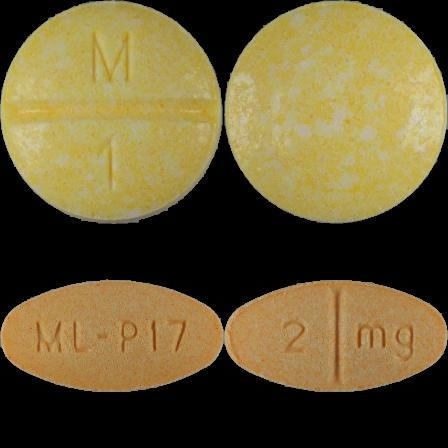67253-320: (0, 0, 224, 224)
